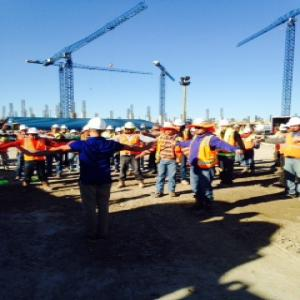white: (87, 118, 107, 138), (192, 118, 210, 135), (287, 117, 300, 133), (124, 123, 136, 134), (174, 120, 186, 131), (29, 128, 39, 139), (220, 121, 231, 131), (19, 126, 29, 136), (60, 125, 69, 133), (51, 125, 60, 133), (115, 128, 124, 136), (70, 130, 79, 137), (106, 127, 114, 134)
